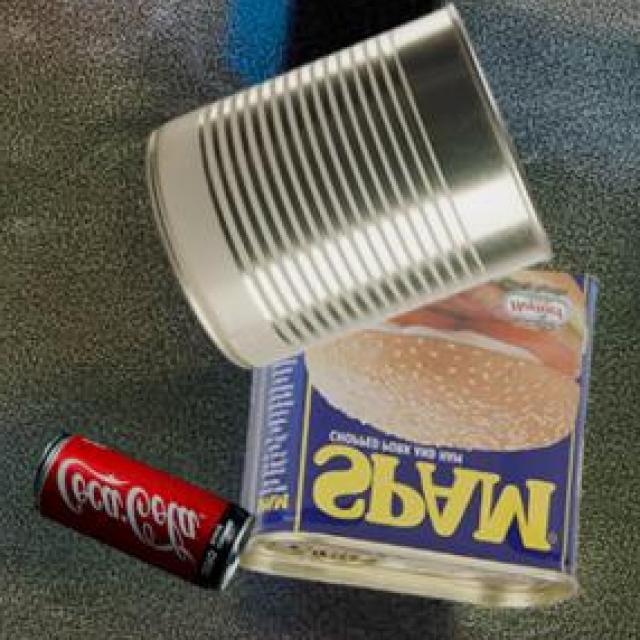logam: (149, 1, 554, 364), (242, 265, 601, 603), (37, 429, 258, 587)
